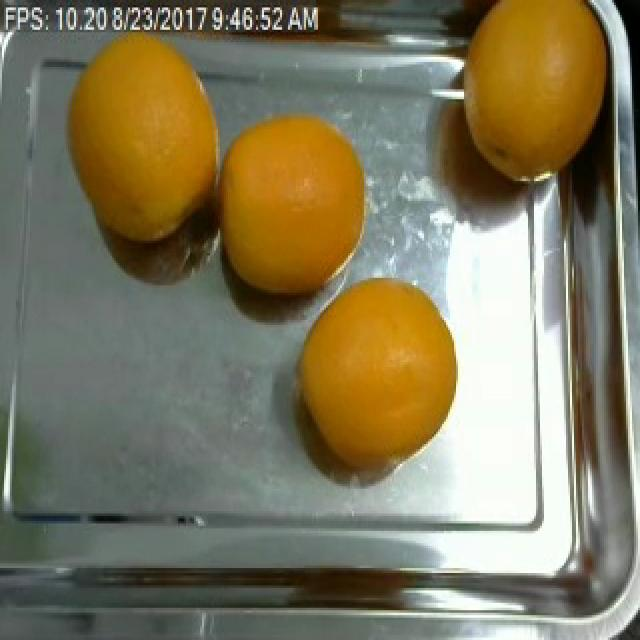Fruit: (274, 255, 466, 479), (198, 91, 382, 302)
